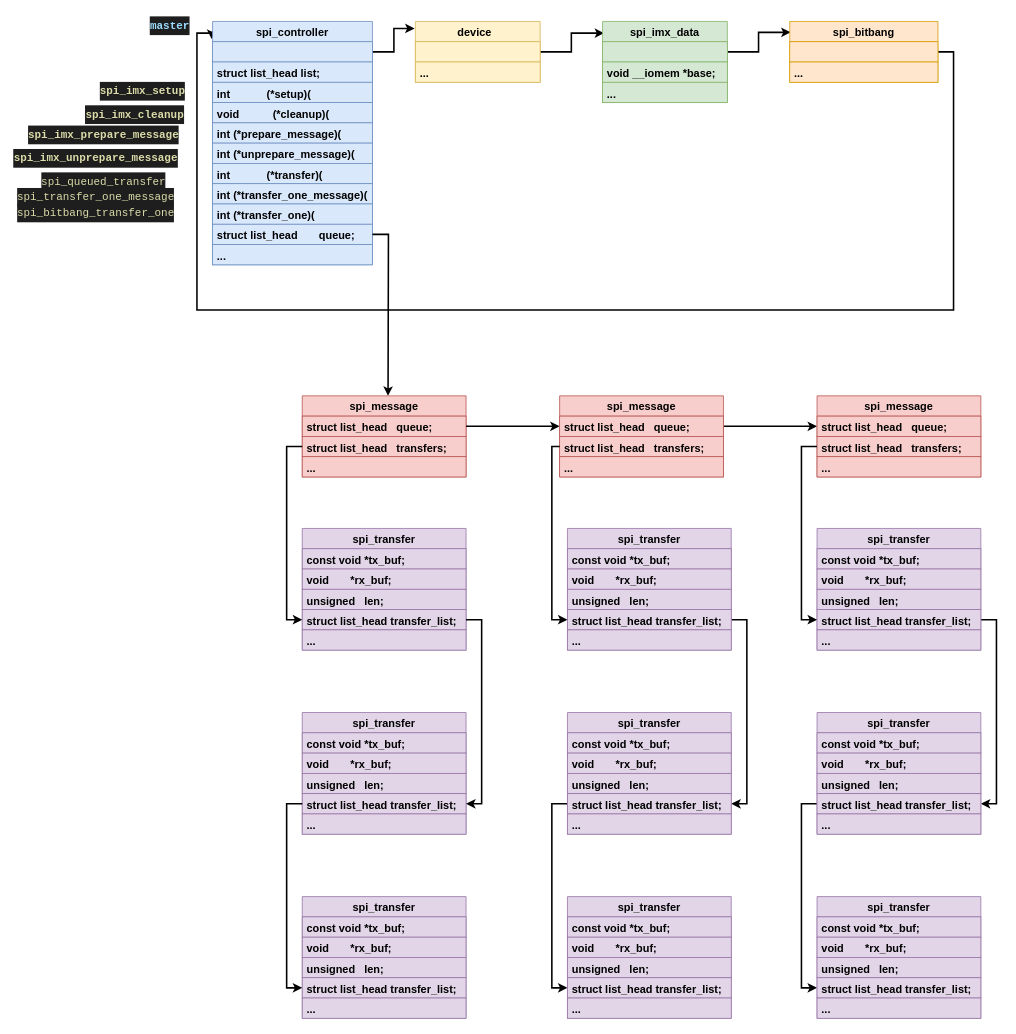
Image size: 1016x1034. Some labels were removed from this diagram. Each missing label, with the centre of its shape:
struct device dev;: (x=292, y=51)
struct spi_bitbang bitbang;: (x=664, y=51)
struct spi_master *master;: (x=863, y=51)
void *driver_data;: (x=477, y=51)
